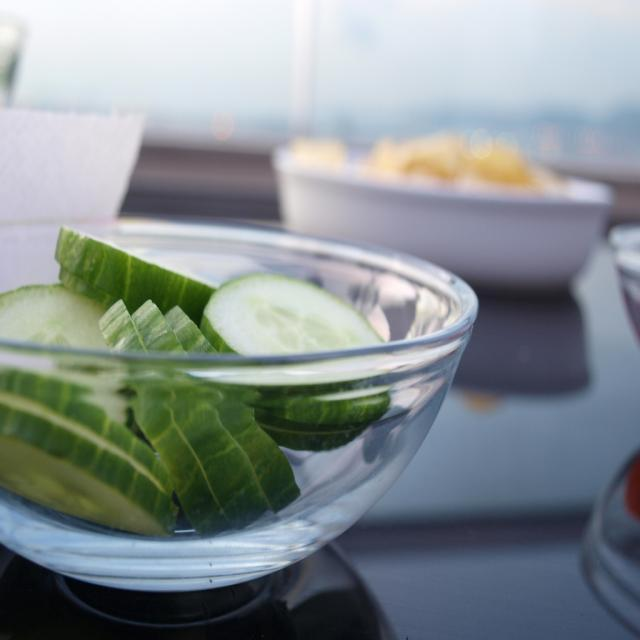Zucchini: (36, 246, 374, 517)
